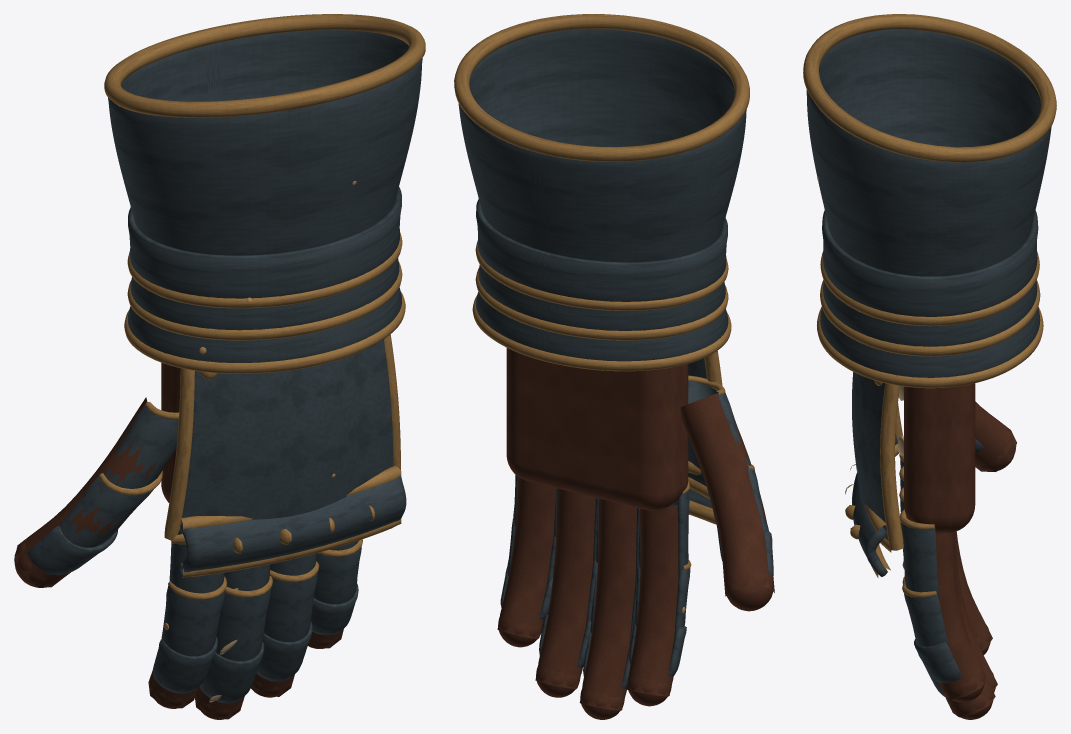
3 views of the same model, side by side, from view 1: azimuth 30°, elevation 25°; view 2: azimuth 150°, elevation 25°; view 3: azimuth 270°, elevation 25° (orthographic). The views are drawn at different scales.
Parts seen in each view (by area): view 1: blackened lamellar plate, aged alloy edge, tanned leather; view 2: blackened lamellar plate, tanned leather, aged alloy edge; view 3: blackened lamellar plate, aged alloy edge, tanned leather.
Part boxes in pixels (x1,y1,x2,y2): blackened lamellar plate: [27, 30, 422, 703]; aged alloy edge: [98, 14, 425, 599]; tanned leather: [14, 362, 343, 719]; blackened lamellar plate: [458, 29, 773, 688]; tanned leather: [497, 348, 774, 719]; aged alloy edge: [454, 14, 754, 570]; blackened lamellar plate: [806, 29, 1051, 698]; aged alloy edge: [803, 14, 1056, 597]; tanned leather: [904, 383, 1016, 719].
Size of the model in its own units: 0.1669 by 0.3032 by 0.1069.
Materials: 5 (3 with a texture image).
